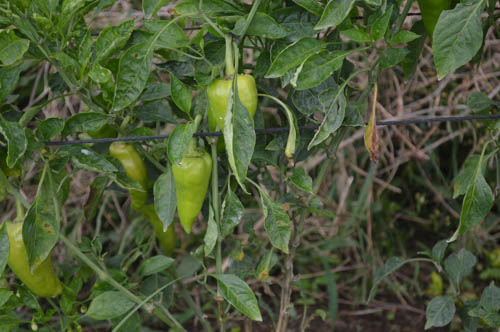ChiliPepper: (110, 146, 171, 251), (9, 224, 57, 294), (172, 152, 211, 235), (213, 77, 259, 133)
